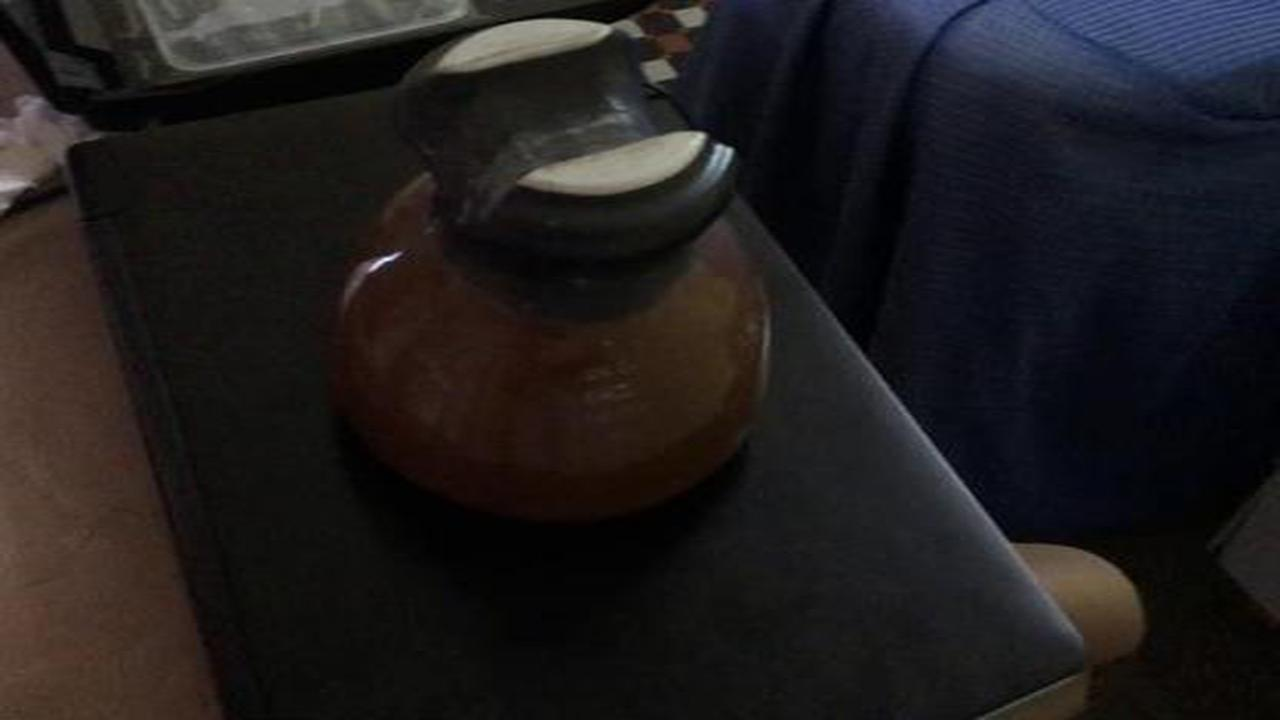insulator_pin: (305, 7, 791, 539)
